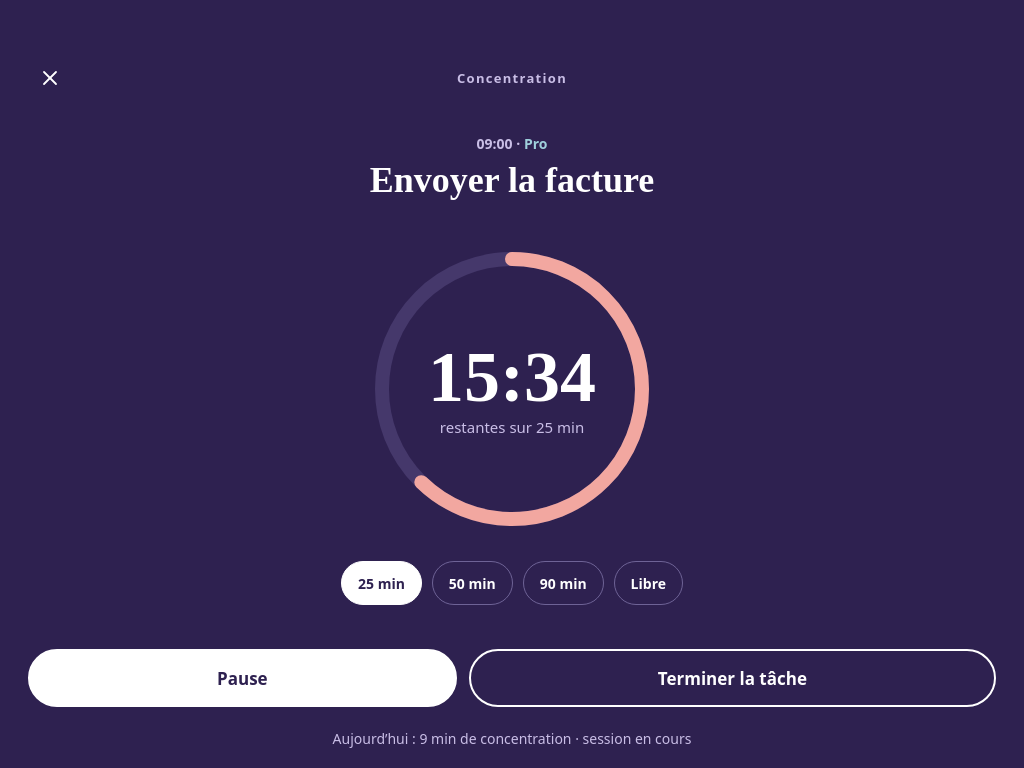
Test case: Écran de session Focus (F-01, Focus.html) › critère 7 : la croix demande « Arrêter la session ? » ; « Continuer » ne change rien
Click the button named "Fermer Focus".
click(50, 78)  # box [28,56,72,100]
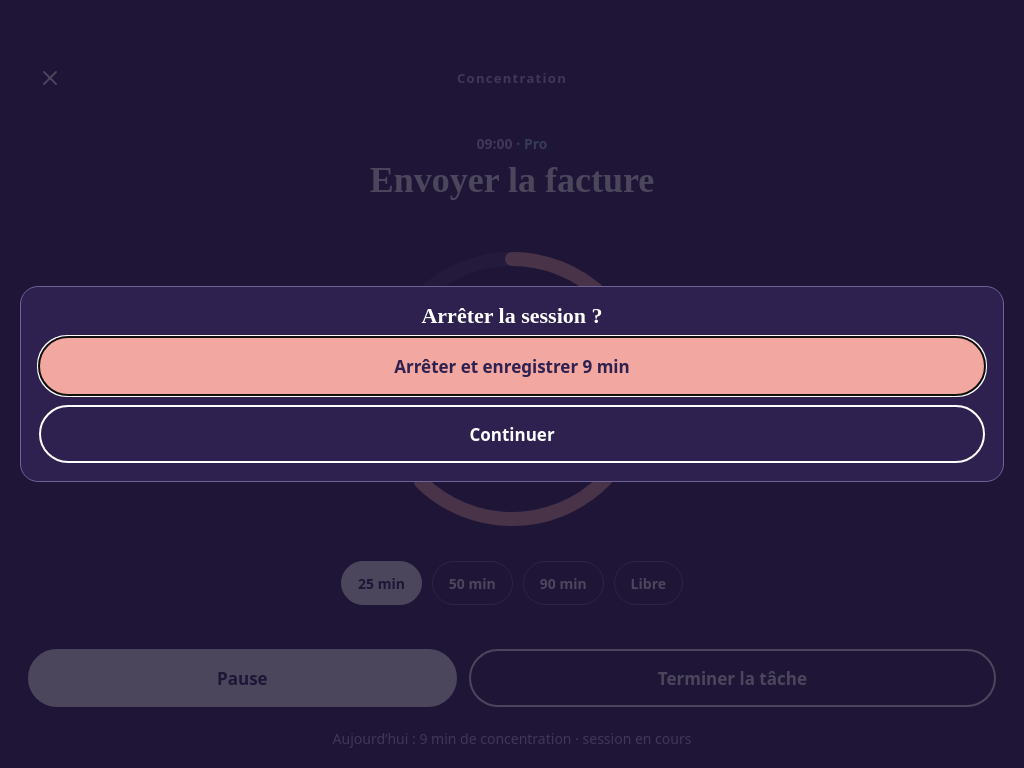
Expected: the button "Arrêter et enregistrer 9 min" is shown, [39,337,985,395]
Click the button "Continuer".
click(512, 434)  # box [39,405,985,463]
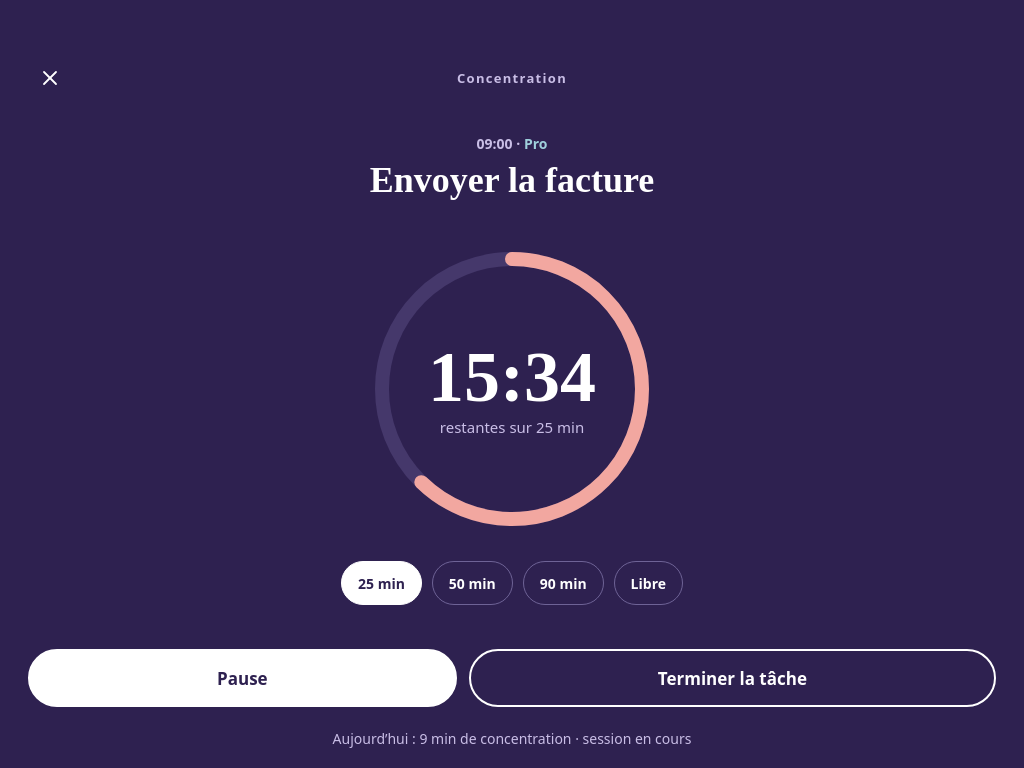
Expected: the dialog is gone
